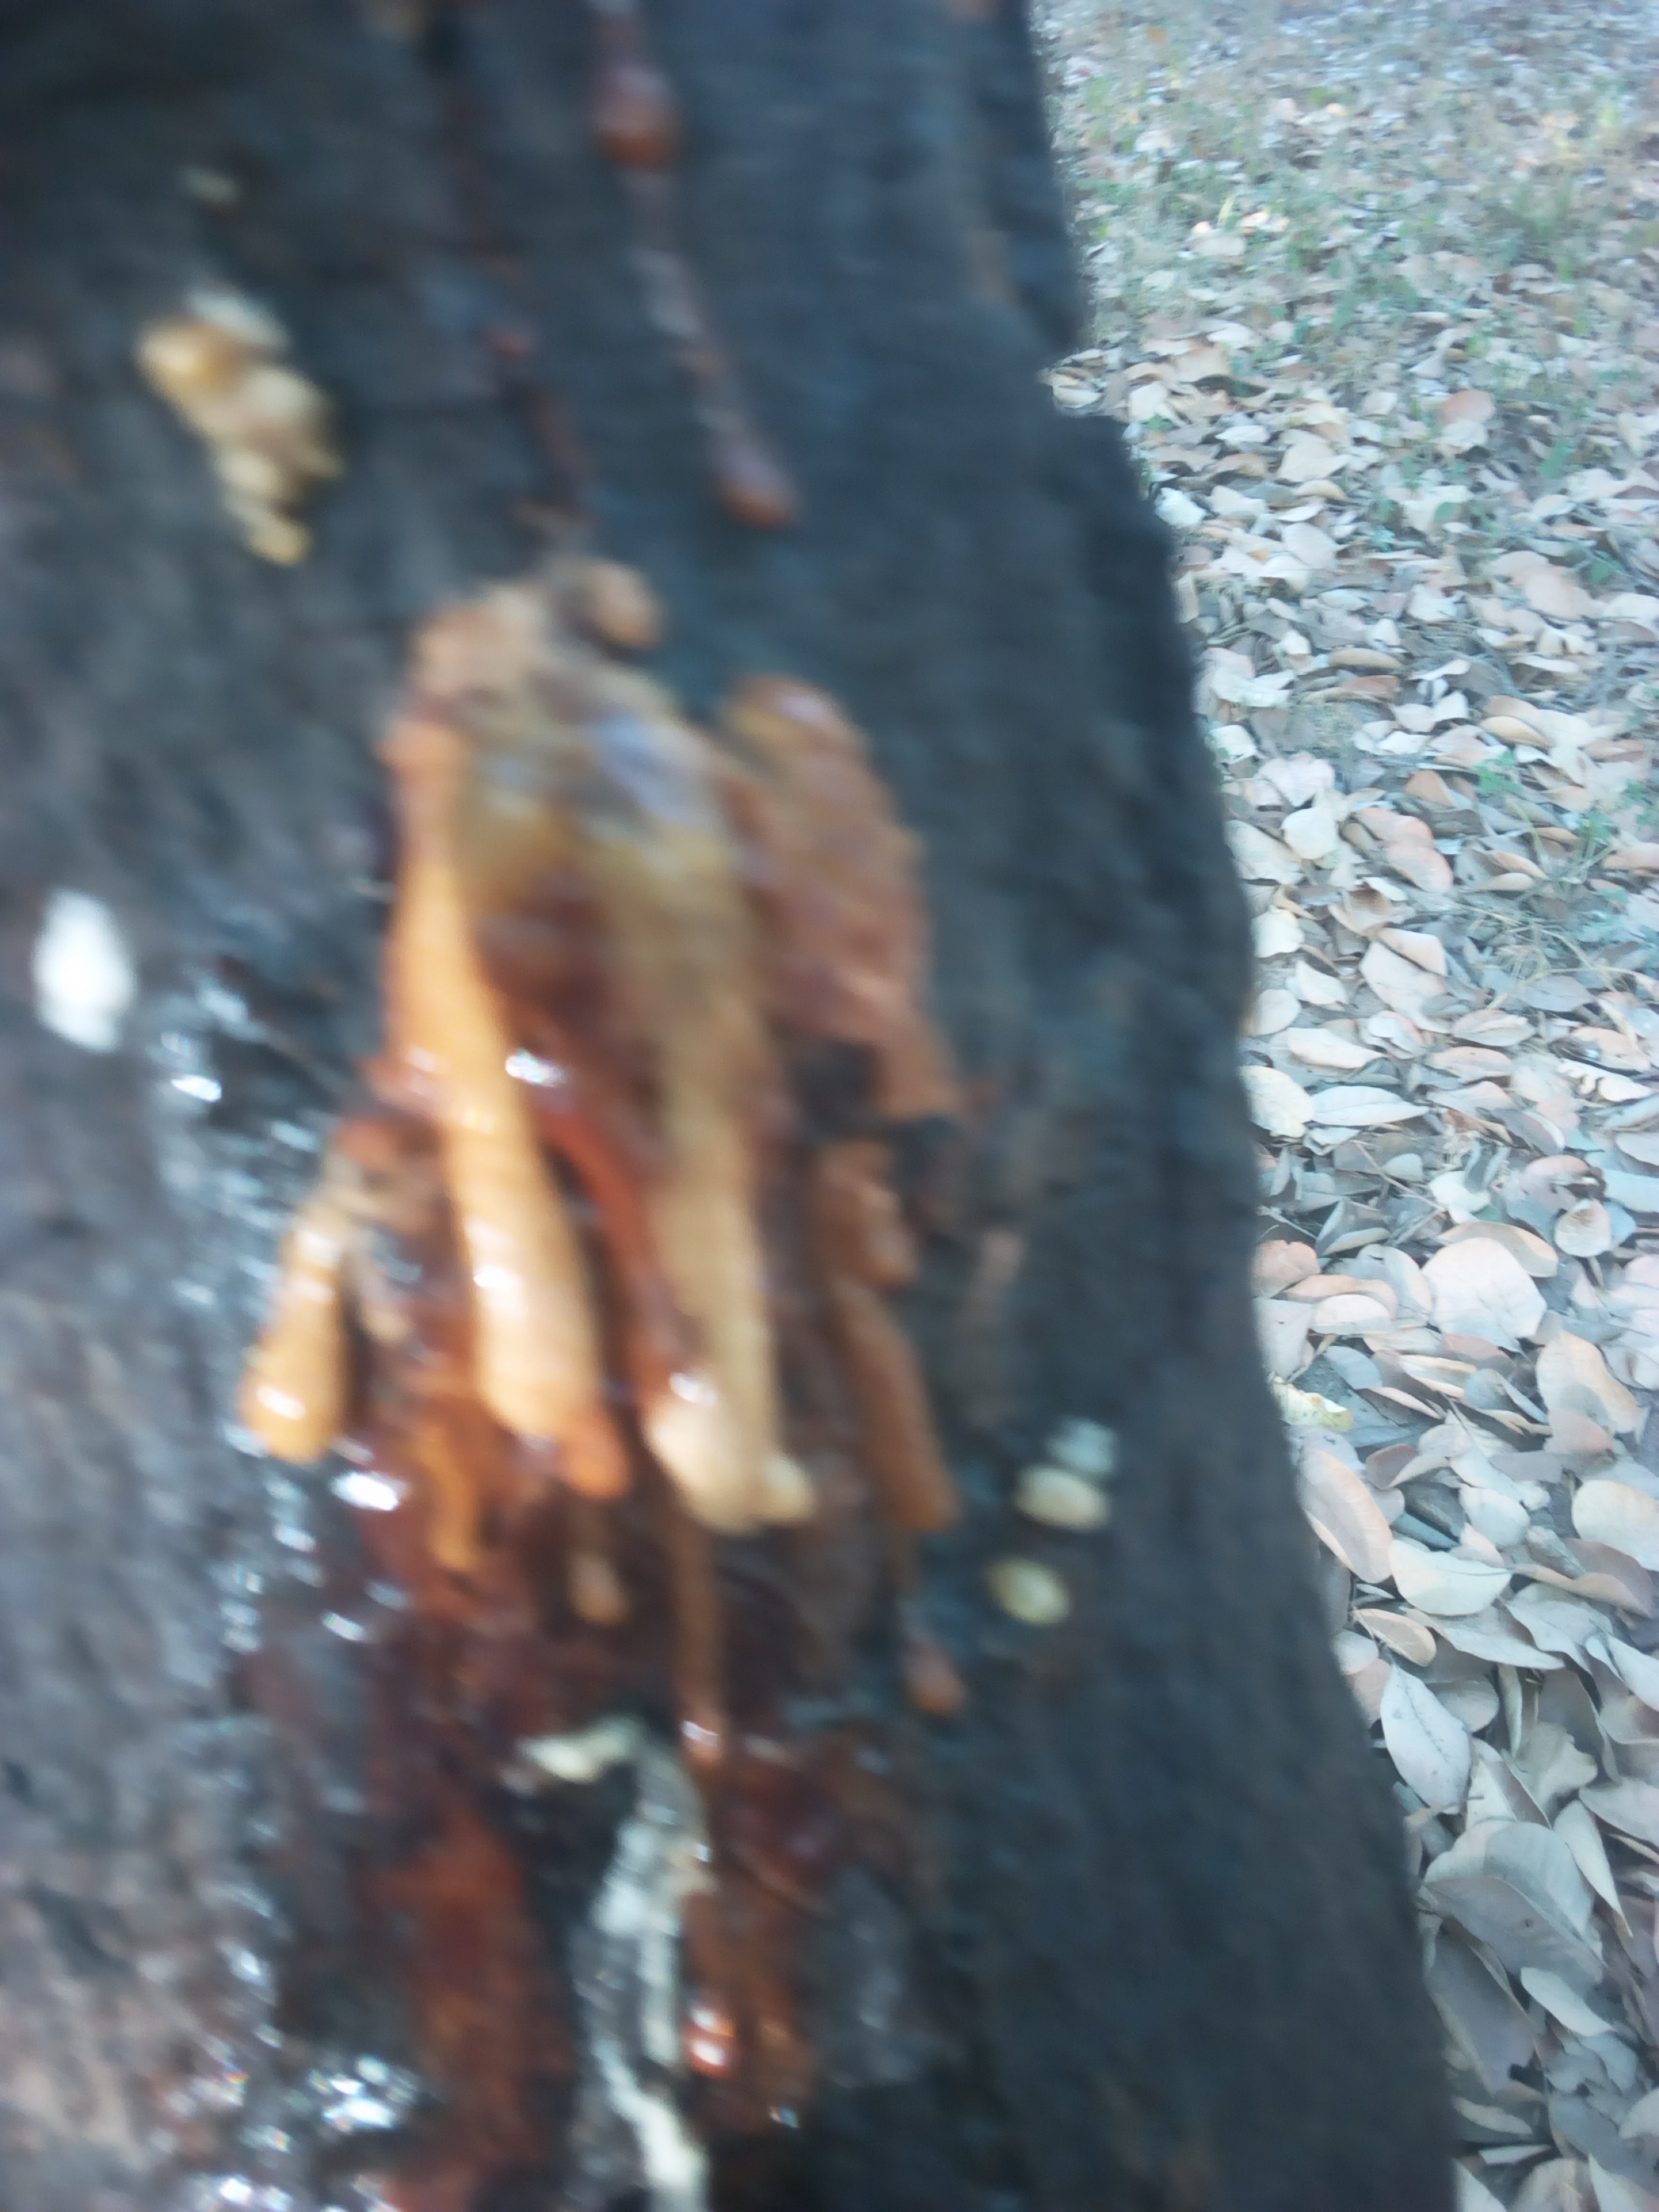Gommose: (131, 202, 1012, 2196)
